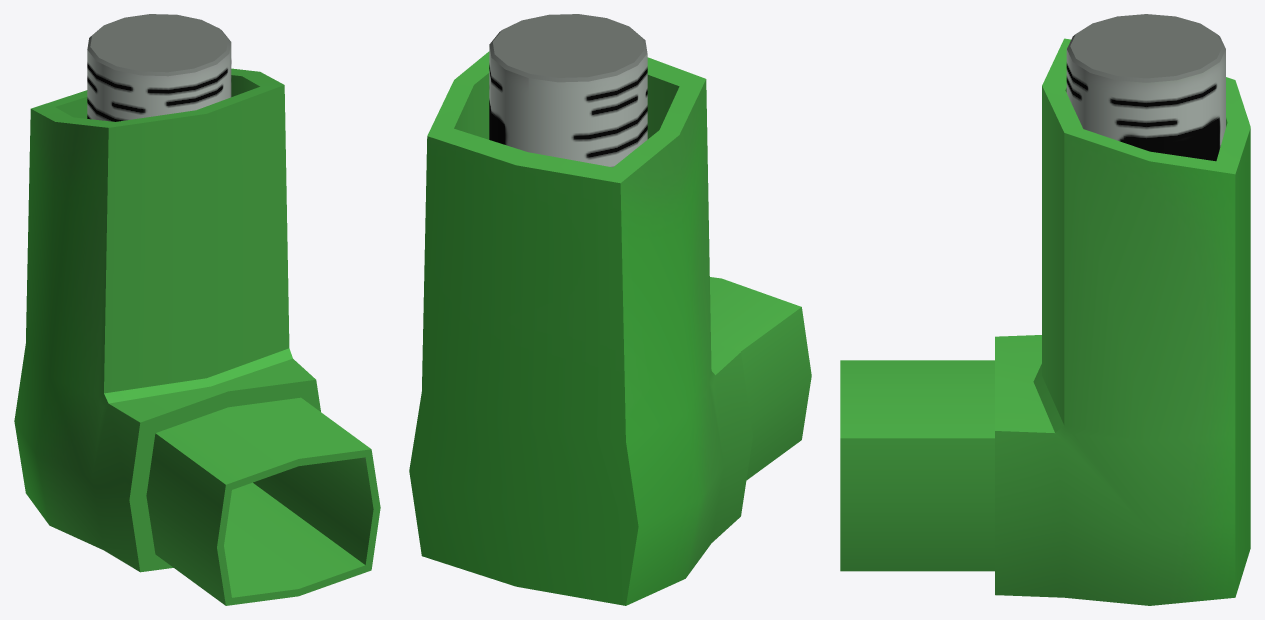
The model's file is Asthma Inhaler.fbx.
The picture shows the model from 3 angles, left to right: view 1: azimuth 30°, elevation 25°; view 2: azimuth 150°, elevation 25°; view 3: azimuth 270°, elevation 25°; orthographic projection. The views are drawn at different scales.
Parts seen in each view (by area): view 1: Inhaler; view 2: Inhaler; view 3: Inhaler.
Part boxes in pixels (bbox=[...]): Inhaler: bbox=[14, 14, 380, 605]; Inhaler: bbox=[409, 14, 811, 605]; Inhaler: bbox=[840, 14, 1250, 605].
Size of the model in its own units: 174 by 320 by 232.
1 material, 1 textured.
